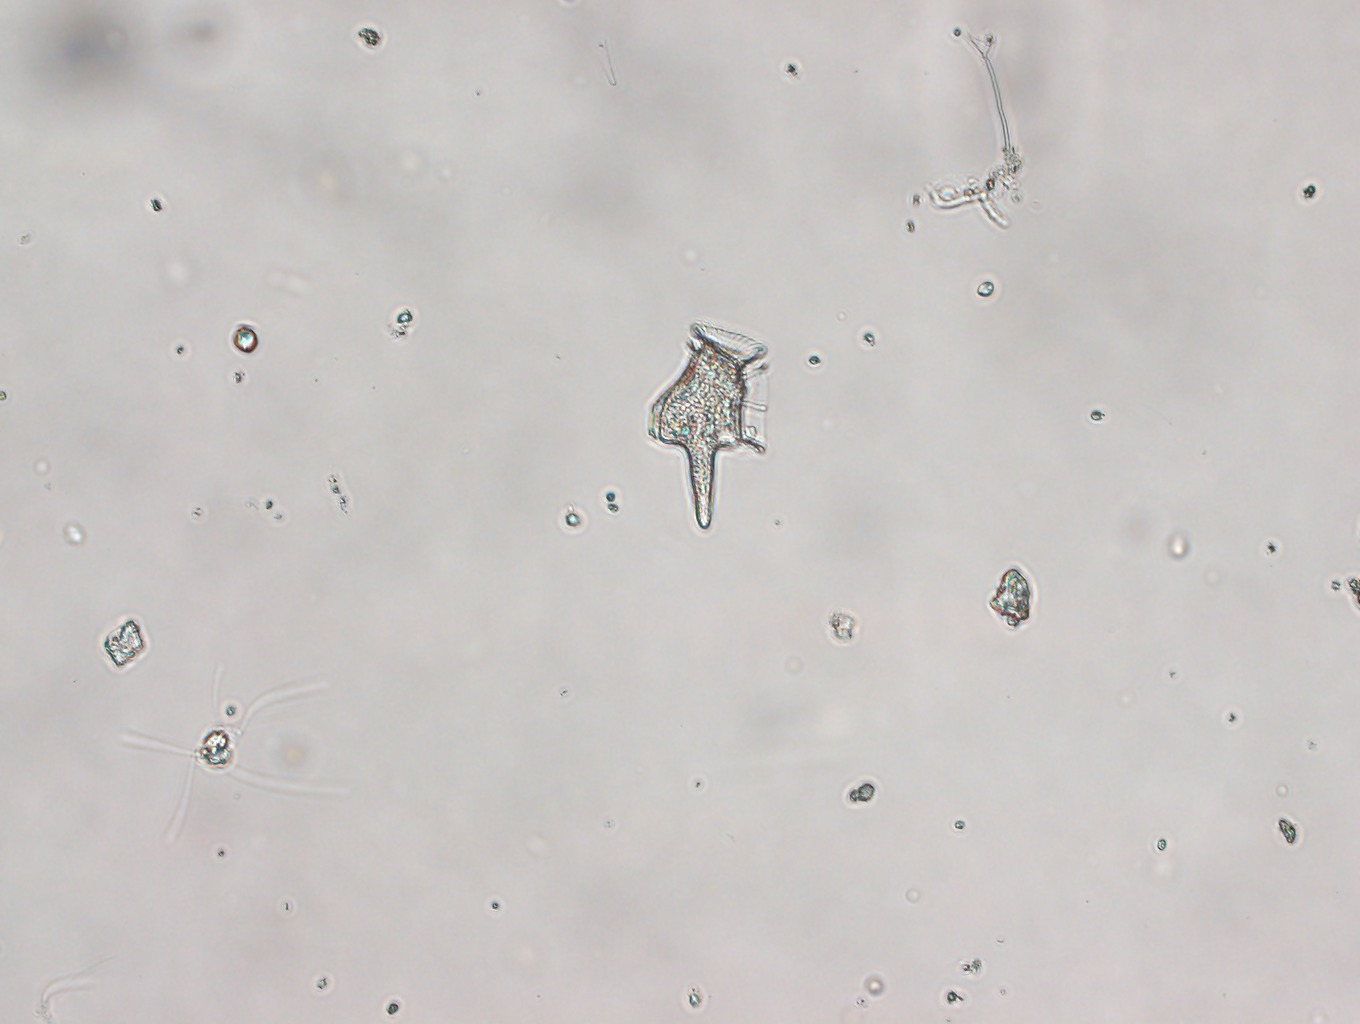dinophysis caudata: (636, 314, 778, 534)
